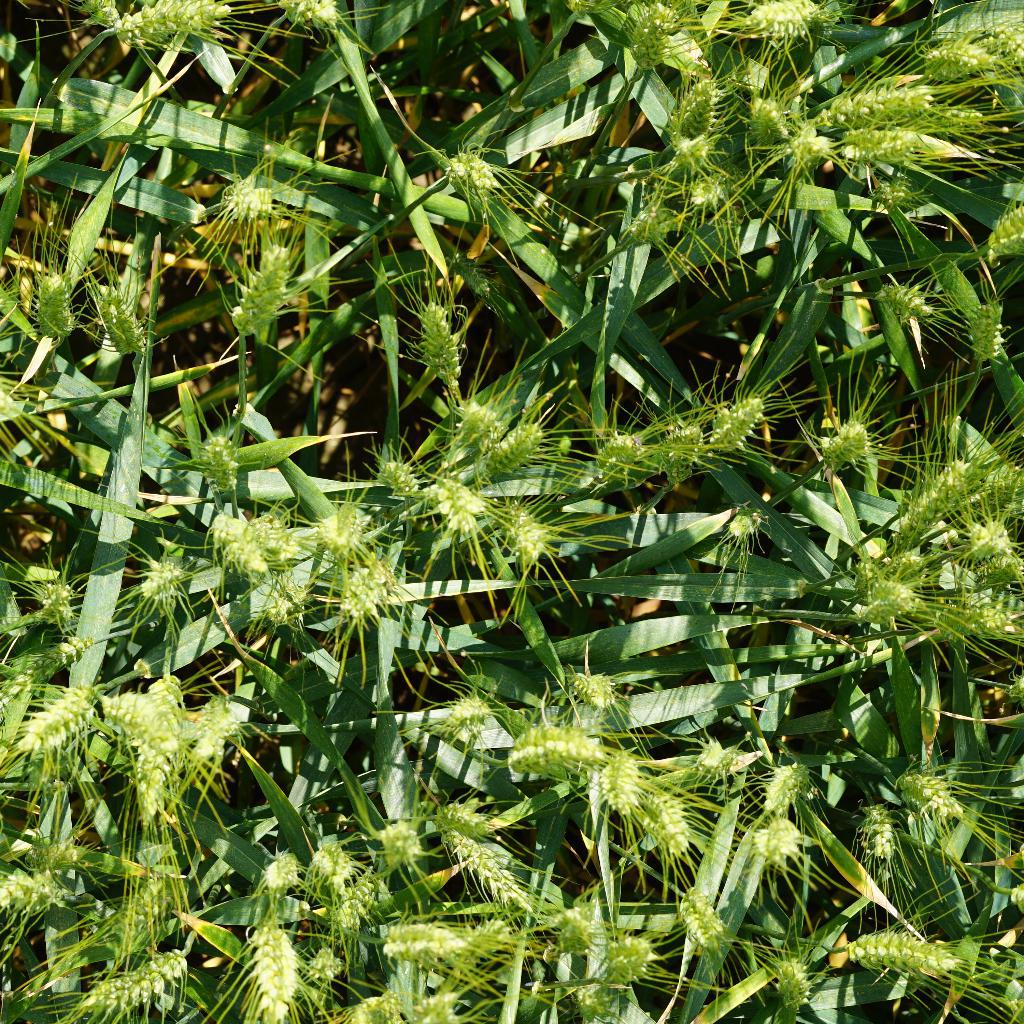0-0: (59, 950, 197, 1022), (373, 911, 520, 978), (837, 915, 963, 990), (492, 713, 600, 798), (230, 232, 302, 351), (137, 669, 201, 802), (821, 68, 946, 133), (235, 896, 298, 1024), (83, 867, 195, 937), (90, 266, 164, 370), (402, 286, 475, 391), (841, 118, 979, 172), (447, 832, 539, 912), (690, 382, 773, 463), (111, 677, 187, 762), (0, 632, 89, 703), (11, 693, 95, 767), (198, 159, 288, 227), (892, 460, 980, 529), (94, 0, 232, 44), (894, 765, 976, 838), (22, 258, 86, 348), (426, 385, 508, 455), (191, 686, 258, 770), (639, 772, 705, 854), (331, 564, 410, 630), (582, 417, 661, 482), (421, 475, 490, 549), (952, 283, 1012, 367), (436, 146, 510, 213), (940, 583, 1017, 645), (961, 183, 1024, 258), (664, 875, 727, 950), (23, 0, 146, 37), (201, 514, 272, 576), (182, 437, 261, 492), (815, 407, 879, 474), (616, 199, 701, 249), (18, 567, 83, 632), (671, 86, 724, 165), (428, 687, 496, 748), (497, 504, 565, 564), (570, 664, 630, 732), (627, 6, 688, 71), (593, 930, 658, 991), (601, 739, 647, 825), (249, 514, 317, 572), (852, 796, 907, 867), (739, 817, 811, 870), (929, 32, 1024, 72), (497, 415, 557, 478), (695, 732, 763, 787), (359, 810, 421, 869), (252, 574, 315, 632), (133, 555, 189, 620), (0, 862, 71, 912), (317, 507, 376, 567), (21, 828, 89, 880), (733, 88, 798, 142), (254, 840, 311, 901), (441, 241, 496, 302), (436, 791, 500, 843), (653, 413, 710, 471), (770, 944, 819, 1011), (679, 164, 742, 216), (862, 572, 914, 632), (736, 0, 818, 37), (759, 765, 815, 819), (305, 834, 359, 890), (545, 908, 608, 955), (363, 455, 433, 496), (868, 173, 926, 222), (791, 112, 833, 175), (967, 524, 1023, 571), (867, 276, 931, 317), (876, 552, 940, 591), (332, 886, 374, 944), (722, 499, 771, 548), (275, 0, 346, 33), (850, 554, 885, 607)
